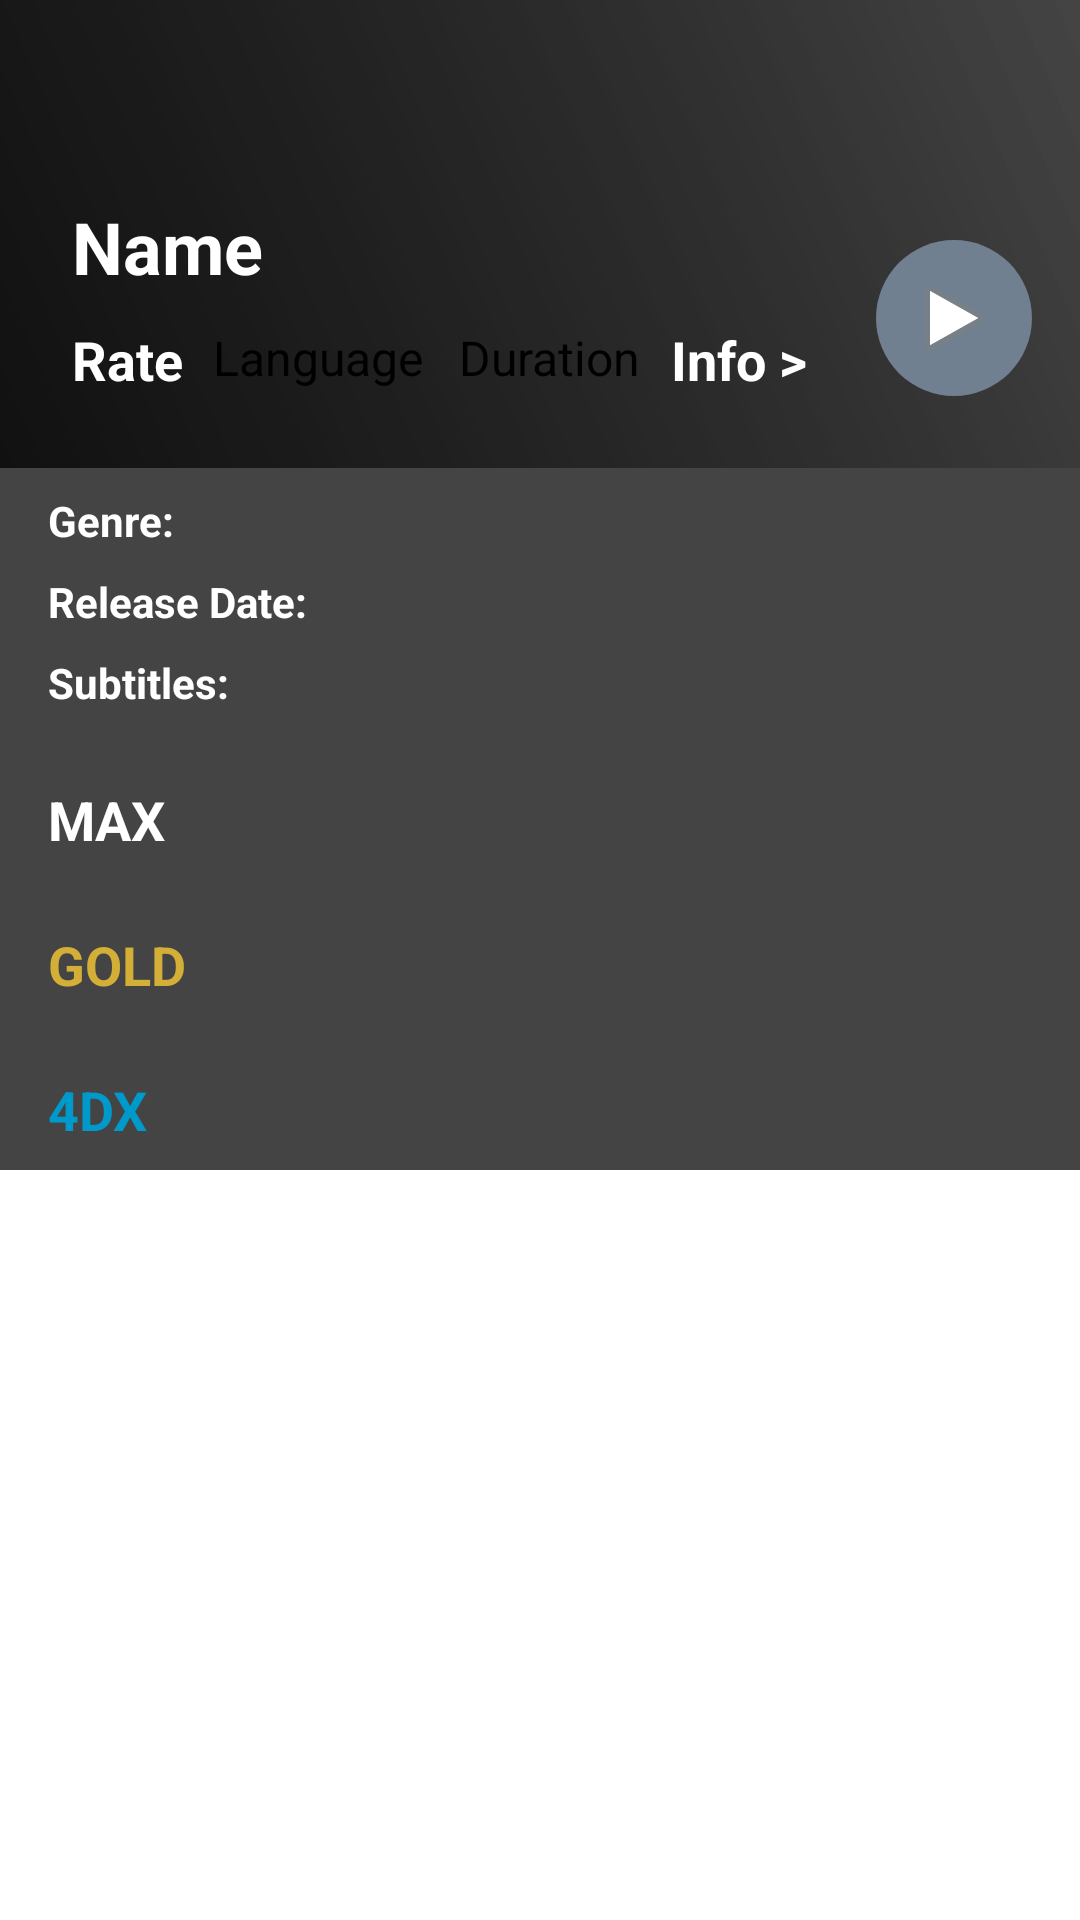

Where icons sit on this 1080x1920 app screen, as BBox(x1, y1, x2, y2):
play: BBox(876, 240, 1032, 396)
